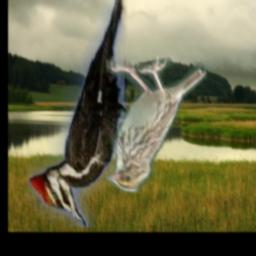Sparrow: (107, 56, 207, 192)
Woodpecker: (28, 0, 129, 227)
